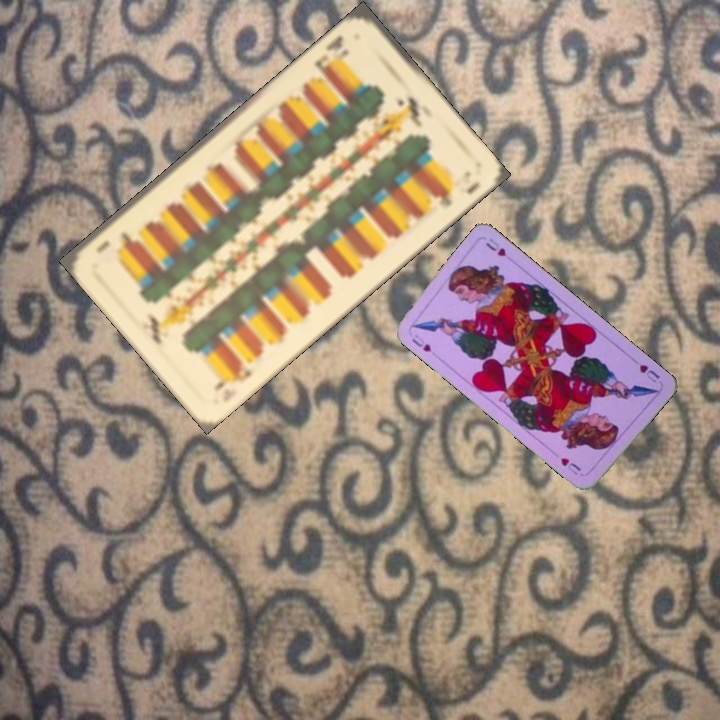E10: (310, 31, 352, 79), (209, 358, 255, 393)
HU: (635, 360, 662, 385), (408, 330, 434, 355)
